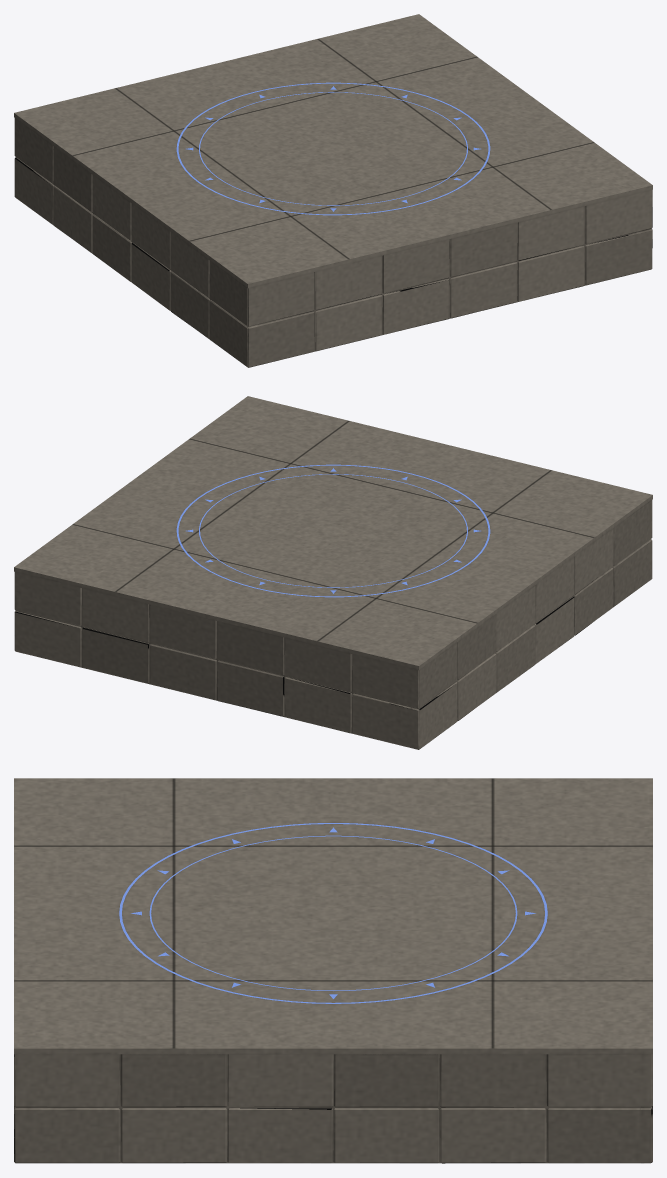
The model's file is arena-platform.glb.
3 views of the same model, one above another, from view 1: azimuth 30°, elevation 25°; view 2: azimuth 150°, elevation 25°; view 3: azimuth 270°, elevation 25° (orthographic). The views are drawn at different scales.
Visible parts, largest first — view 1: arena-platform; view 2: arena-platform; view 3: arena-platform.
Part boxes in pixels (x1,y1,x2,y2): arena-platform: (14,14,652,367); arena-platform: (14,396,652,749); arena-platform: (14,778,652,1163).
Bounding box in the file's own units: 6 × 1.2 × 6.
Materials: 1 (1 with a texture image).
